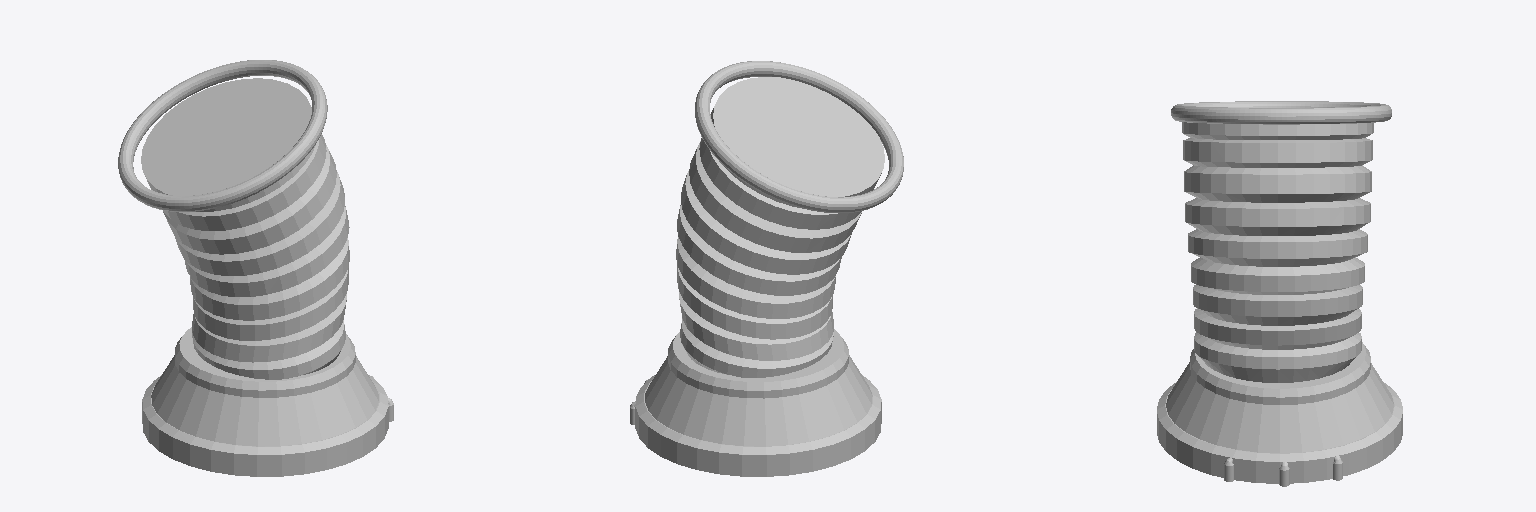
File: patatraseraderecha.obj
The picture shows the model from 3 angles: view 1: azimuth 30°, elevation 25°; view 2: azimuth 150°, elevation 25°; view 3: azimuth 270°, elevation 25°; orthographic projection.
Visible parts, largest first — view 1: C_rculo_007_C_rculo_008.001, C_rculo_015_C_rculo_016.001, C_rculo_014_C_rculo_015.001, C_rculo_004.001, C_rculo_016_C_rculo_017.001; view 2: C_rculo_007_C_rculo_008.001, C_rculo_015_C_rculo_016.001, C_rculo_014_C_rculo_015.001, C_rculo_004.001, C_rculo_016_C_rculo_017.001; view 3: C_rculo_007_C_rculo_008.001, C_rculo_015_C_rculo_016.001, C_rculo_014_C_rculo_015.001, C_rculo_004.001, C_rculo_016_C_rculo_017.001, Cilindro_001_Cilindro_006.001.
Part boxes in pixels (left/top/right/bottom): C_rculo_007_C_rculo_008.001: left=141, top=78, right=349, bottom=379; C_rculo_015_C_rculo_016.001: left=151, top=355, right=378, bottom=446; C_rculo_014_C_rculo_015.001: left=142, top=375, right=388, bottom=476; C_rculo_004.001: left=118, top=60, right=327, bottom=211; C_rculo_016_C_rculo_017.001: left=175, top=327, right=355, bottom=397; C_rculo_007_C_rculo_008.001: left=676, top=77, right=884, bottom=377; C_rculo_015_C_rculo_016.001: left=645, top=355, right=872, bottom=446; C_rculo_014_C_rculo_015.001: left=635, top=375, right=881, bottom=476; C_rculo_004.001: left=695, top=61, right=903, bottom=212; C_rculo_016_C_rculo_017.001: left=668, top=329, right=848, bottom=398; C_rculo_007_C_rculo_008.001: left=1182, top=122, right=1373, bottom=382; C_rculo_015_C_rculo_016.001: left=1166, top=362, right=1393, bottom=452; C_rculo_014_C_rculo_015.001: left=1157, top=382, right=1402, bottom=483; C_rculo_004.001: left=1171, top=101, right=1391, bottom=124; C_rculo_016_C_rculo_017.001: left=1190, top=342, right=1370, bottom=404; Cilindro_001_Cilindro_006.001: left=1224, top=456, right=1342, bottom=486.
Size of the model in its own units: 1.17 by 1.58 by 1.03.